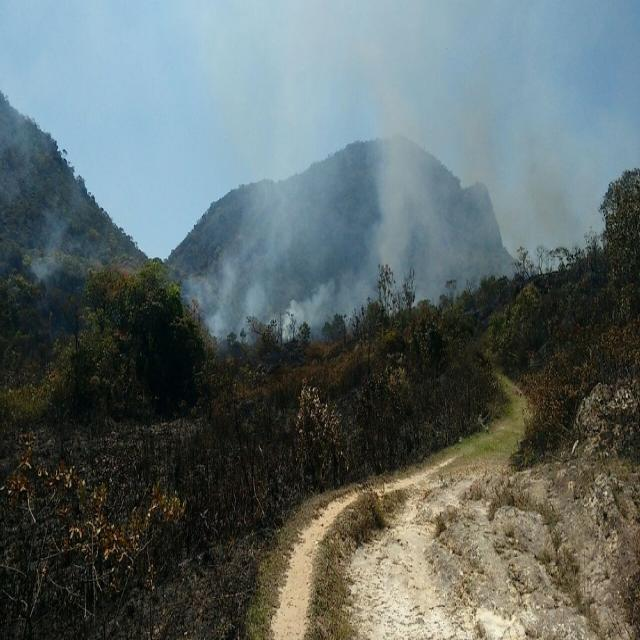Smoke: (210, 82, 506, 289), (515, 128, 579, 256), (26, 202, 66, 292)
